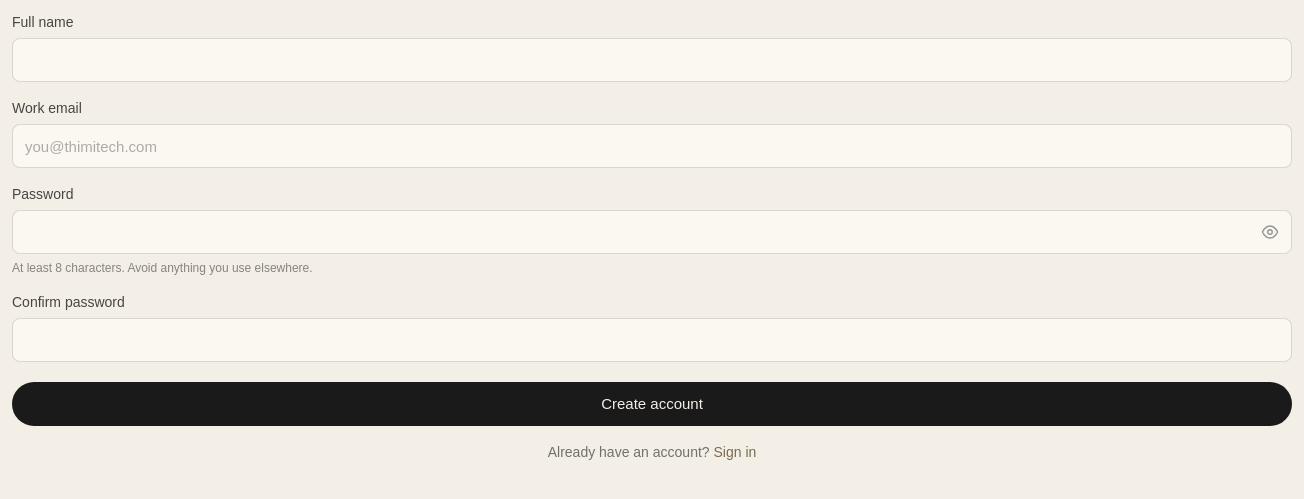
AuthForm › shows field errors returned by registration
The width and height of the screenshot is (1304, 499).
Type "Sita Rai" into the field labelled "Full name". click: (652, 60)
box: [12,38,1292,82]
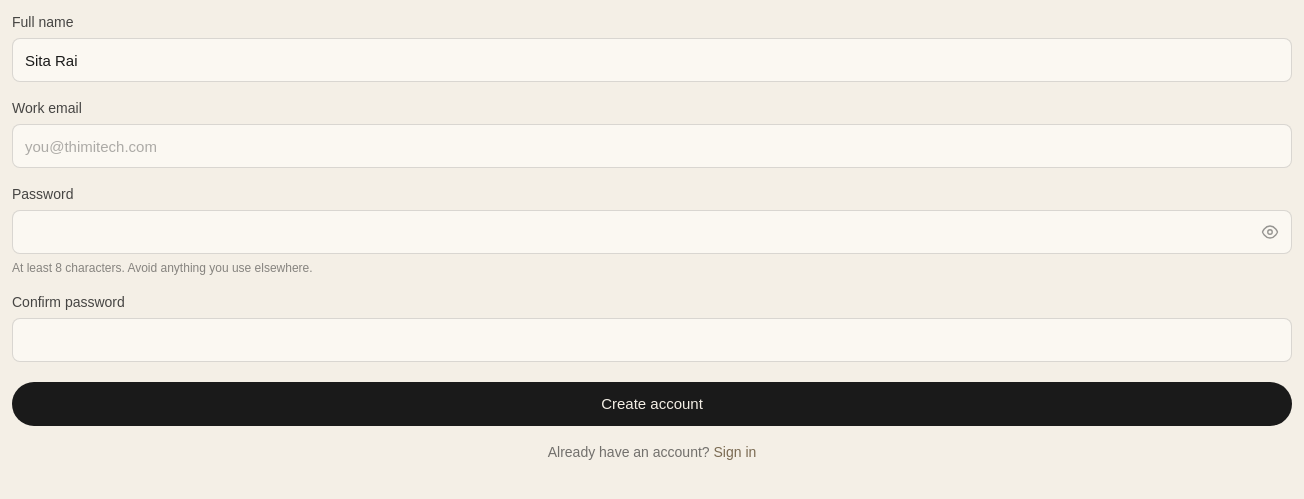
Type "sita@thimitech.com" into the field labelled "Work email". click: (652, 146)
box: [12,124,1292,168]
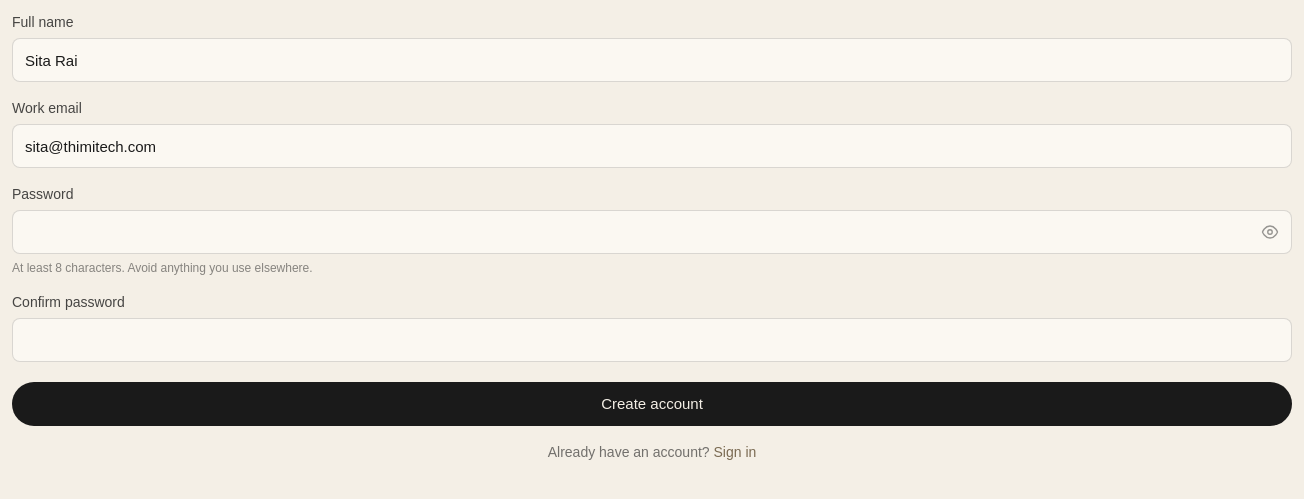
Type "longenough" into the password field labelled "Password". click: (652, 232)
box: [12,210,1292,254]
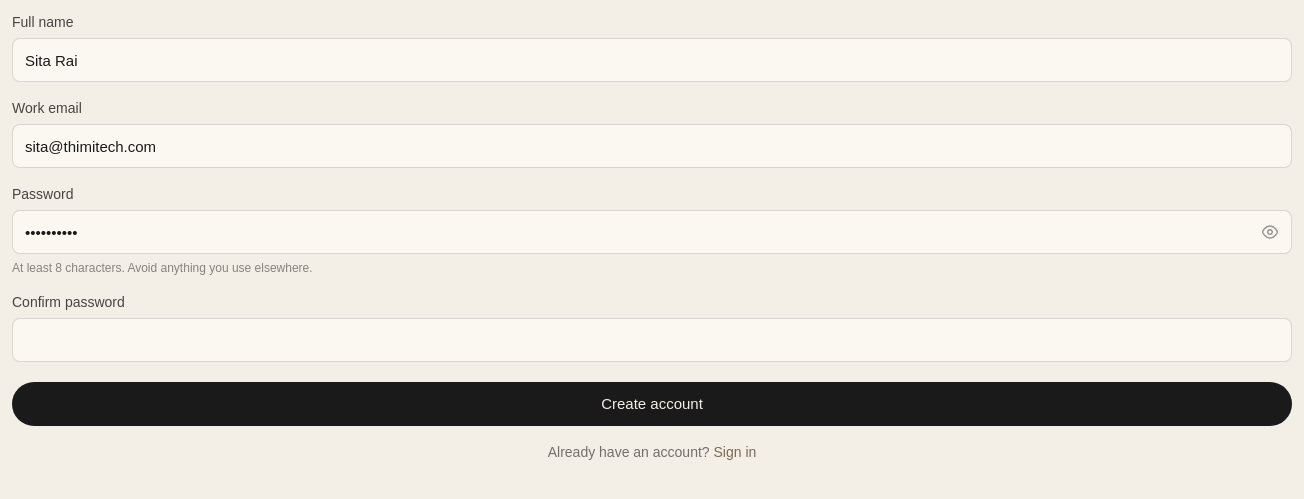
Type "longenough" into the password field labelled "Confirm password". click: (652, 340)
box: [12,318,1292,362]
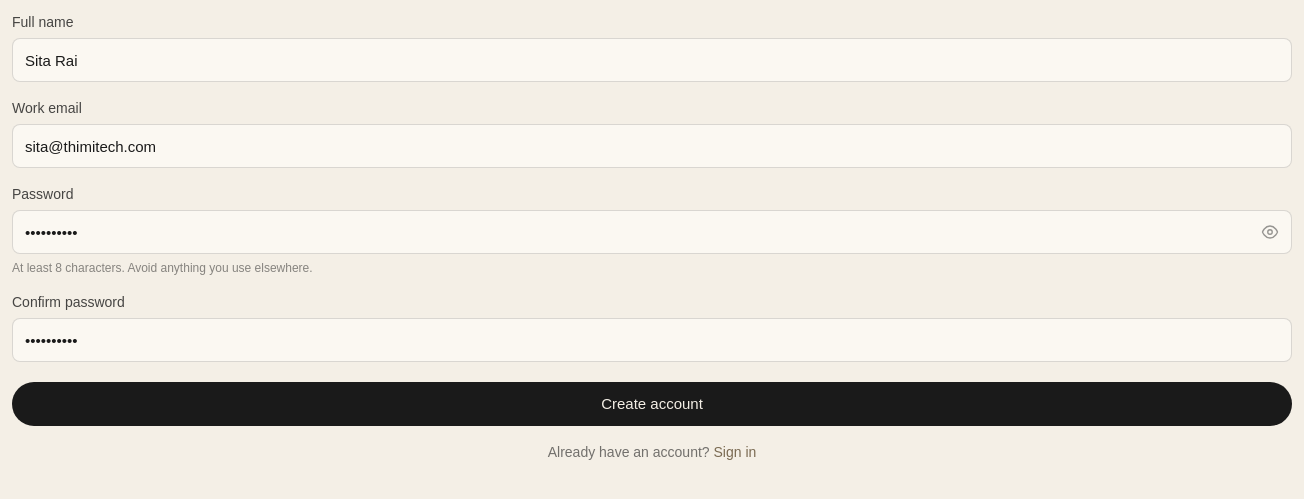
Submit the form
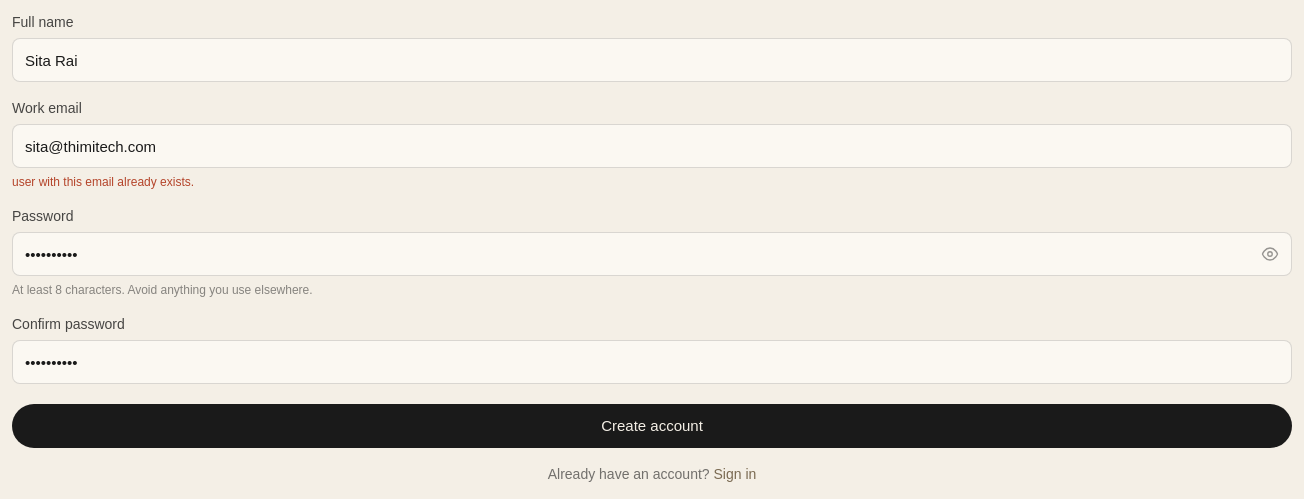
Expected: the form shows "user with this email already exists.", [12,175,194,189]
